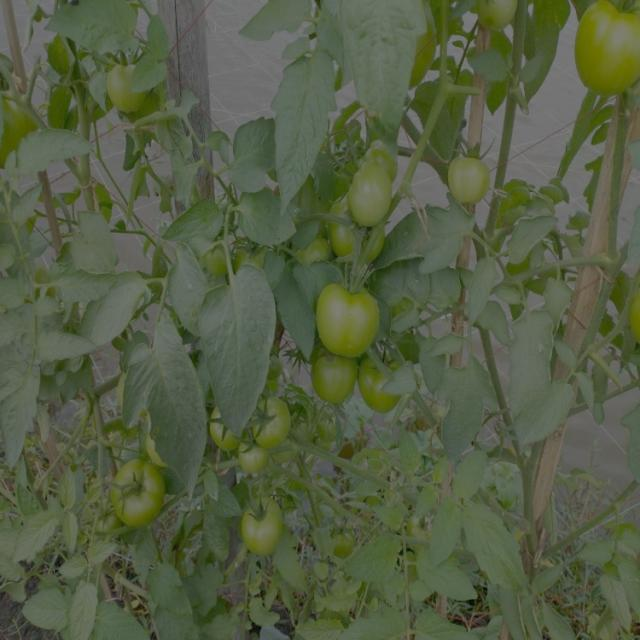tomato: (332, 142, 397, 265), (575, 5, 640, 95), (314, 276, 380, 355), (111, 461, 167, 523), (108, 62, 156, 117), (239, 500, 283, 554), (449, 143, 485, 205), (315, 360, 360, 407), (366, 361, 408, 411), (419, 2, 442, 85), (257, 403, 297, 446), (478, 1, 527, 29), (295, 233, 325, 270), (211, 408, 241, 444), (403, 517, 431, 547), (627, 281, 640, 342), (333, 532, 364, 557), (210, 241, 232, 271), (242, 449, 267, 473), (239, 246, 259, 272)
